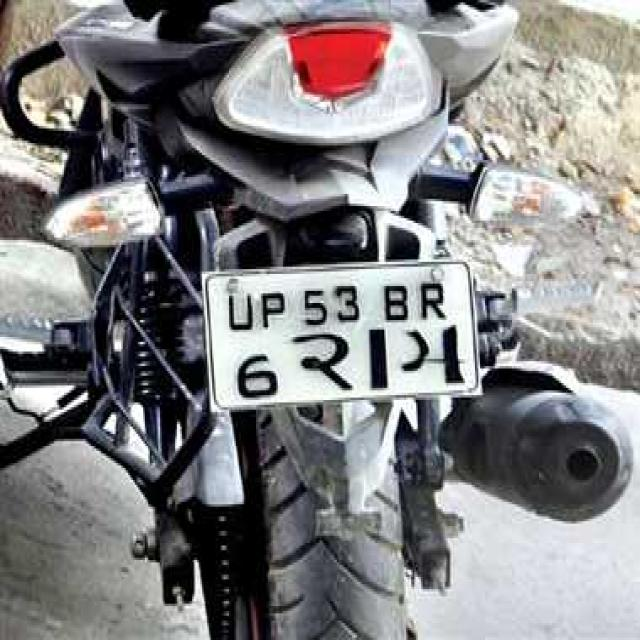number plate: (200, 255, 482, 412)
